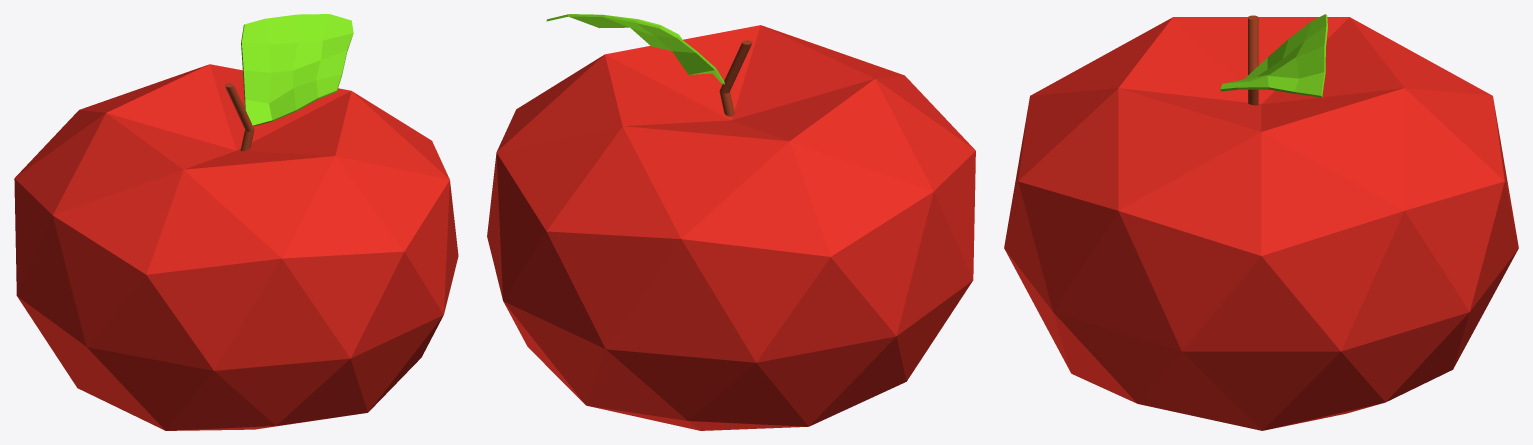
The model's file is apple.fbx.
3 views of the same model, side by side, from view 1: azimuth 30°, elevation 25°; view 2: azimuth 150°, elevation 25°; view 3: azimuth 270°, elevation 25° (orthographic). The views are drawn at different scales.
Parts seen in each view (by area): view 1: Icosphere, Plane, Cylinder; view 2: Icosphere, Plane, Cylinder; view 3: Icosphere, Plane, Cylinder.
Boxes of the visible parts, box(x1,y1,x2,y2) form: Icosphere: box(14, 64, 458, 430); Plane: box(241, 14, 353, 126); Cylinder: box(224, 83, 254, 151); Icosphere: box(487, 25, 975, 430); Plane: box(546, 14, 724, 84); Cylinder: box(719, 40, 752, 116); Icosphere: box(1004, 17, 1518, 430); Plane: box(1220, 14, 1327, 97); Cylinder: box(1248, 15, 1258, 105).
Size of the model in its own units: 212 by 179 by 218.
